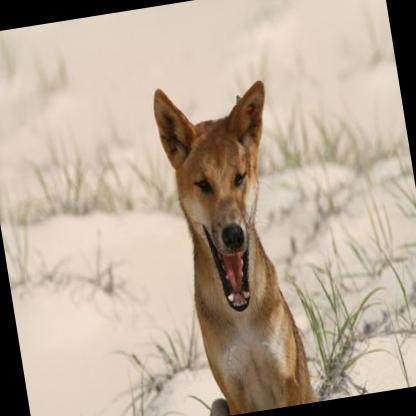dingo: (146, 69, 313, 416)
